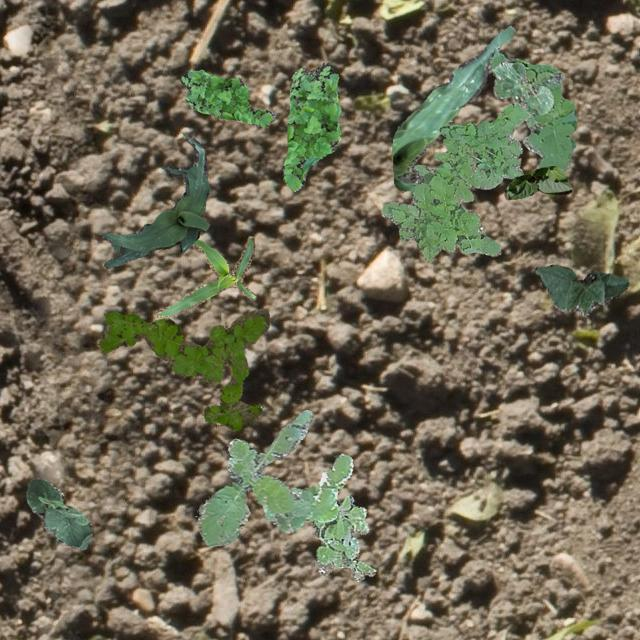crop: (392, 24, 514, 190), (100, 133, 210, 267), (156, 235, 254, 316), (534, 264, 628, 316), (26, 478, 91, 548), (492, 60, 552, 114), (502, 164, 572, 198)
weed: (380, 100, 530, 260), (196, 410, 352, 546), (98, 308, 268, 430), (488, 48, 576, 170), (288, 486, 374, 580), (282, 61, 341, 190), (180, 68, 274, 125)
